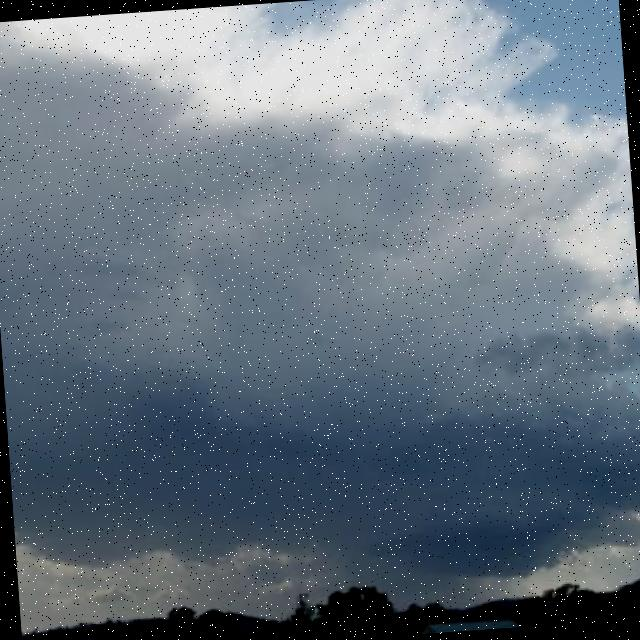Cb: (1, 7, 640, 517)
